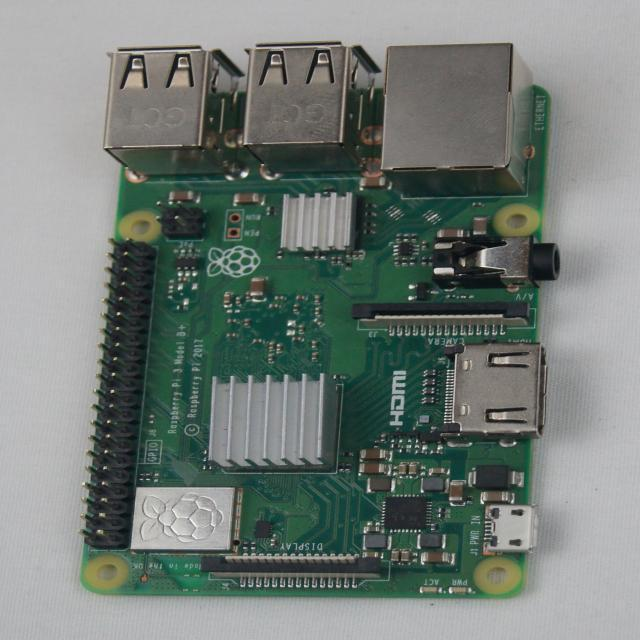Raspberry Pi 3 B-: (82, 43, 560, 597)
